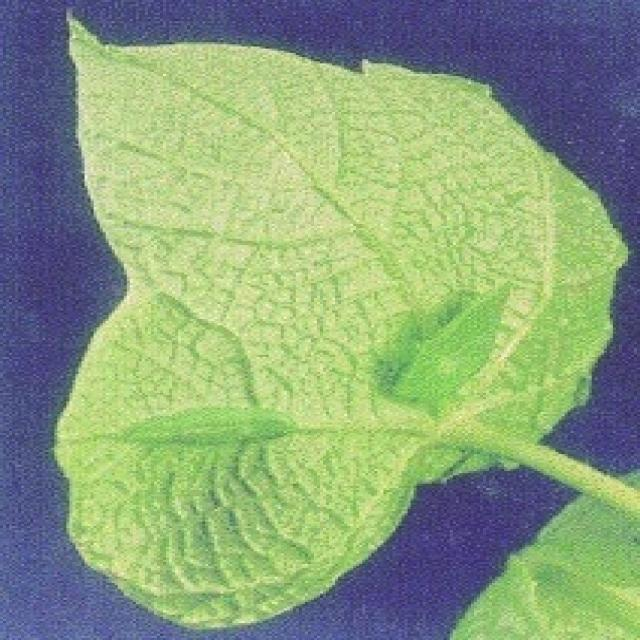Leaf Curl Virus: (92, 61, 504, 530)
